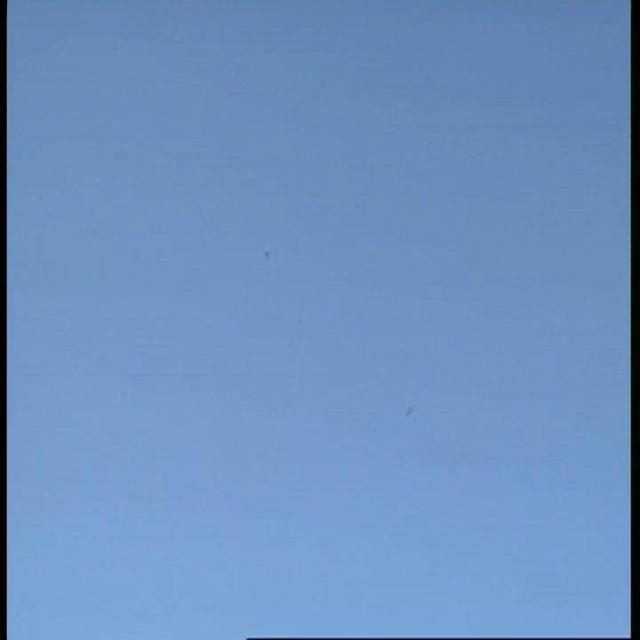drone: (398, 398, 420, 422), (259, 246, 273, 262)
